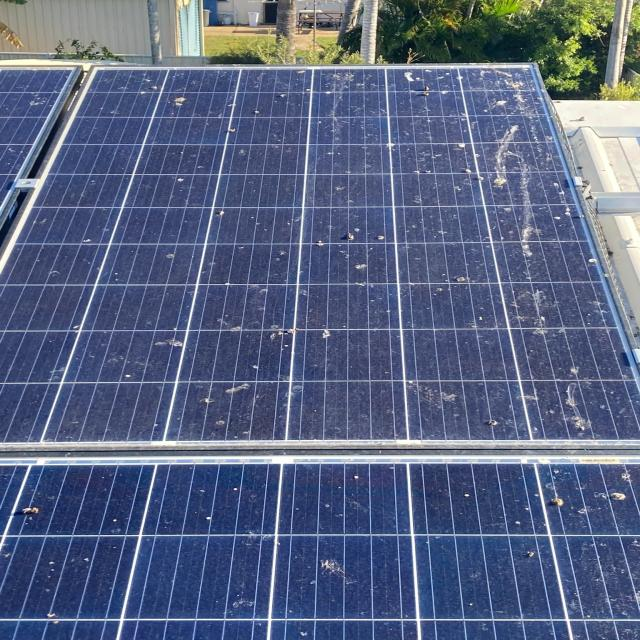dust-solar-panel: (0, 67, 640, 640)
